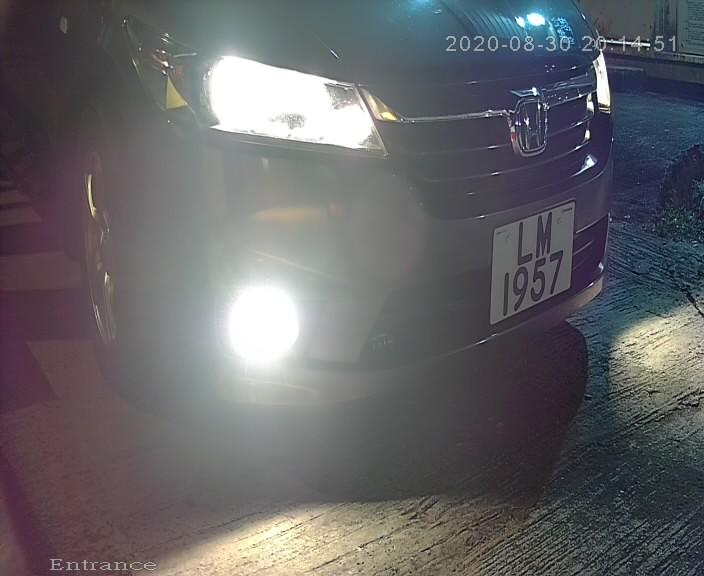License Plate: (485, 191, 579, 340)
